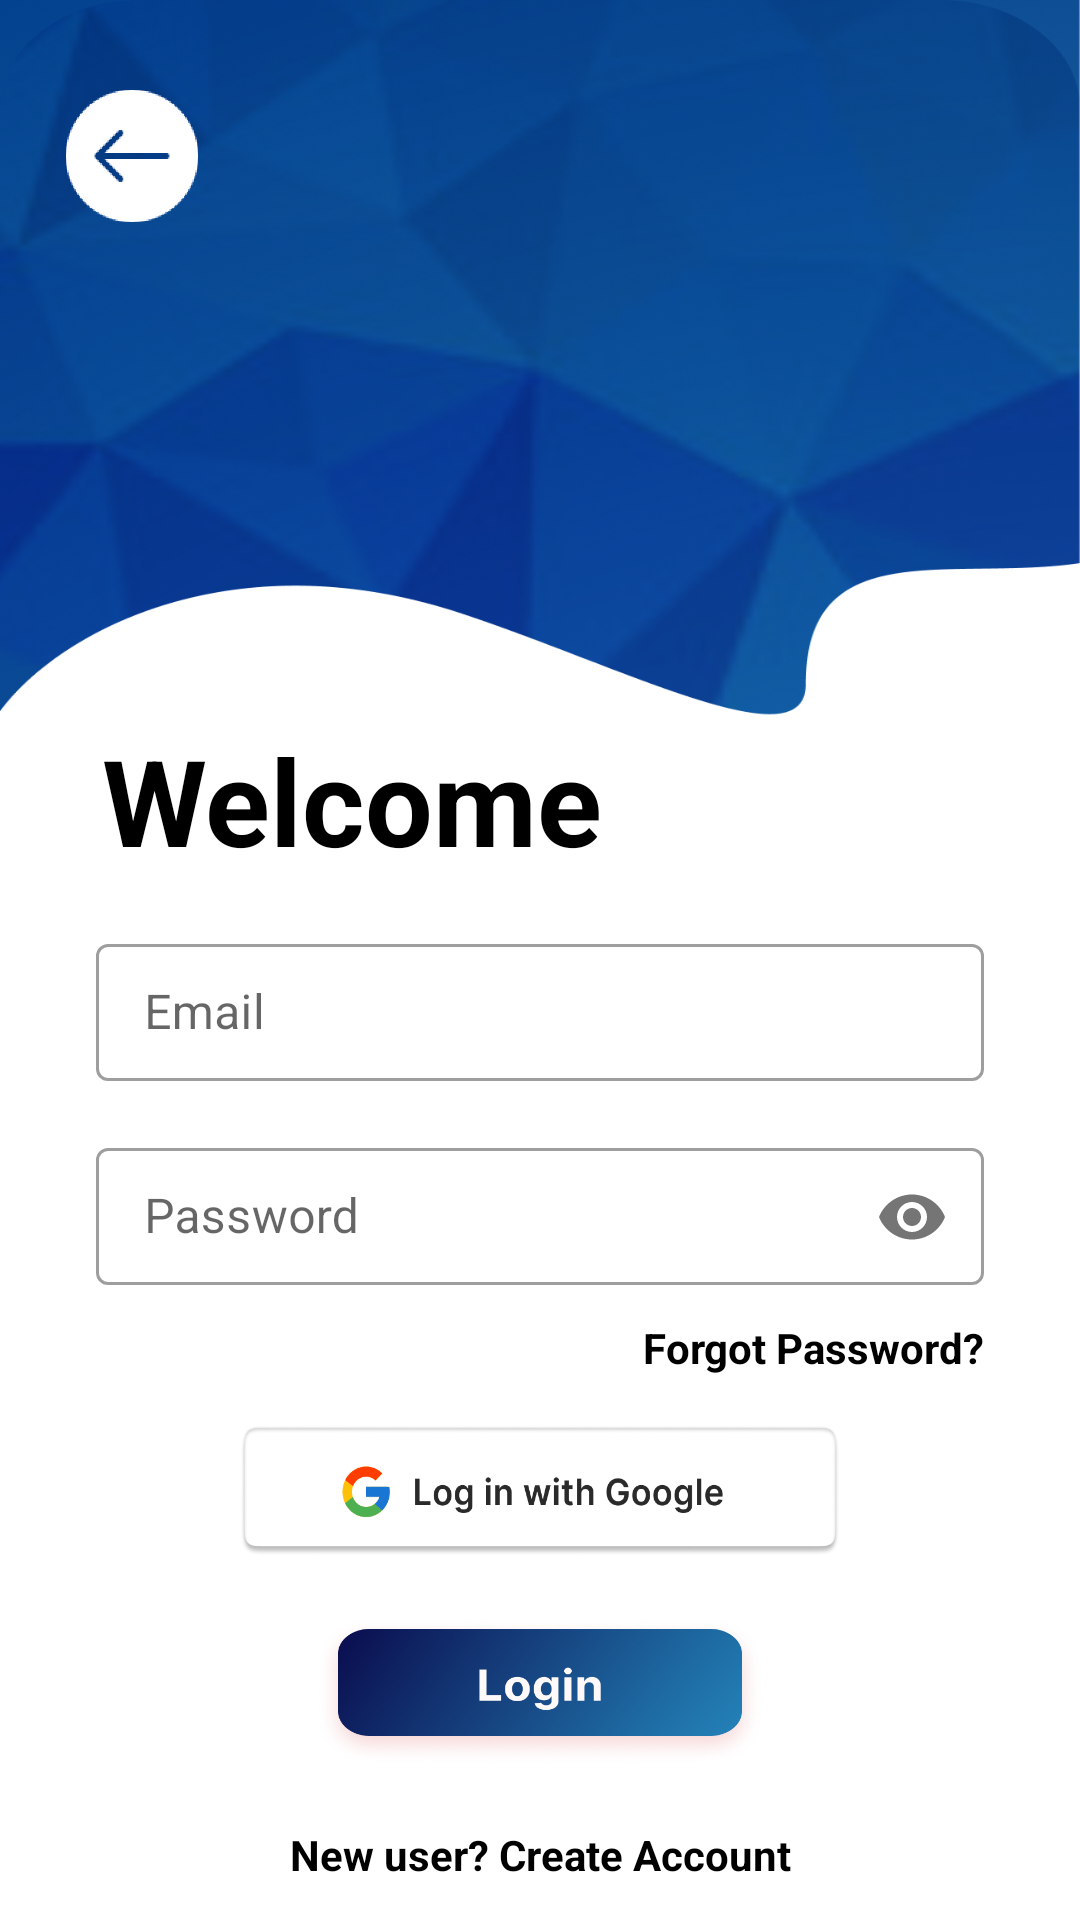

Icon click points for this 1080*1920 phone screenshot, format point (x, y):
Back Button: point (132, 156)
